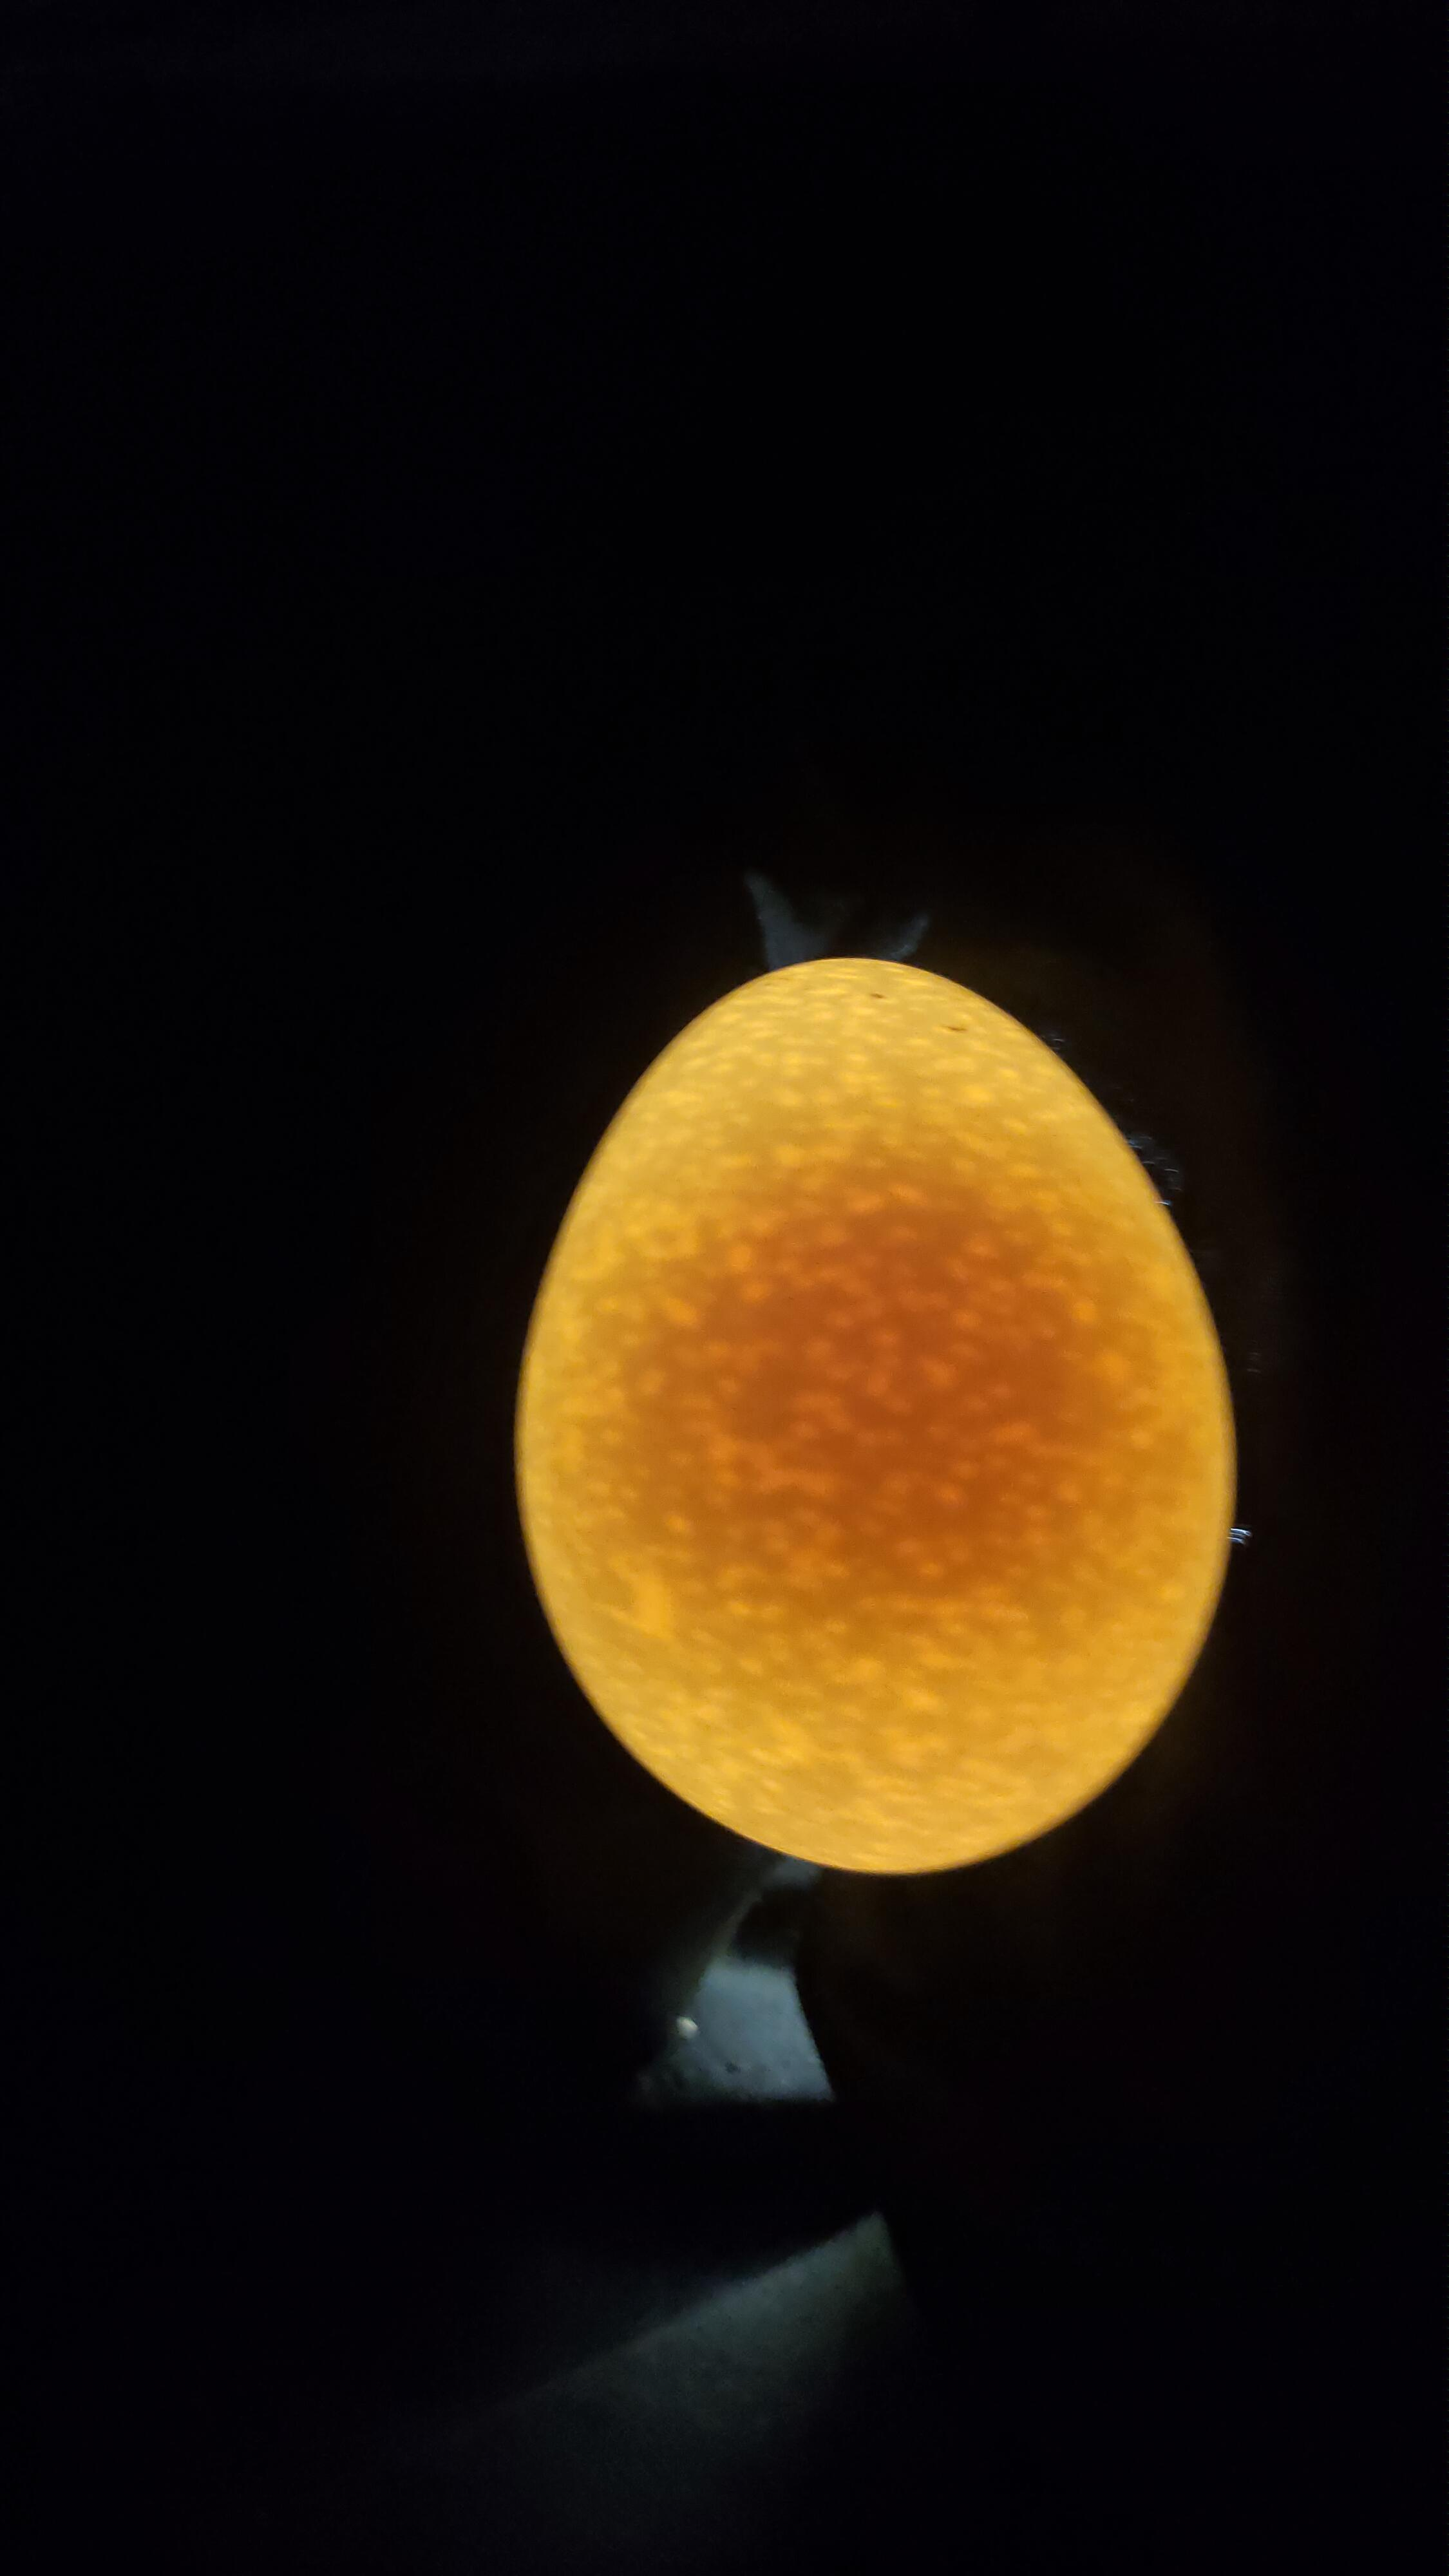A - Good: (490, 908, 1288, 1939)
